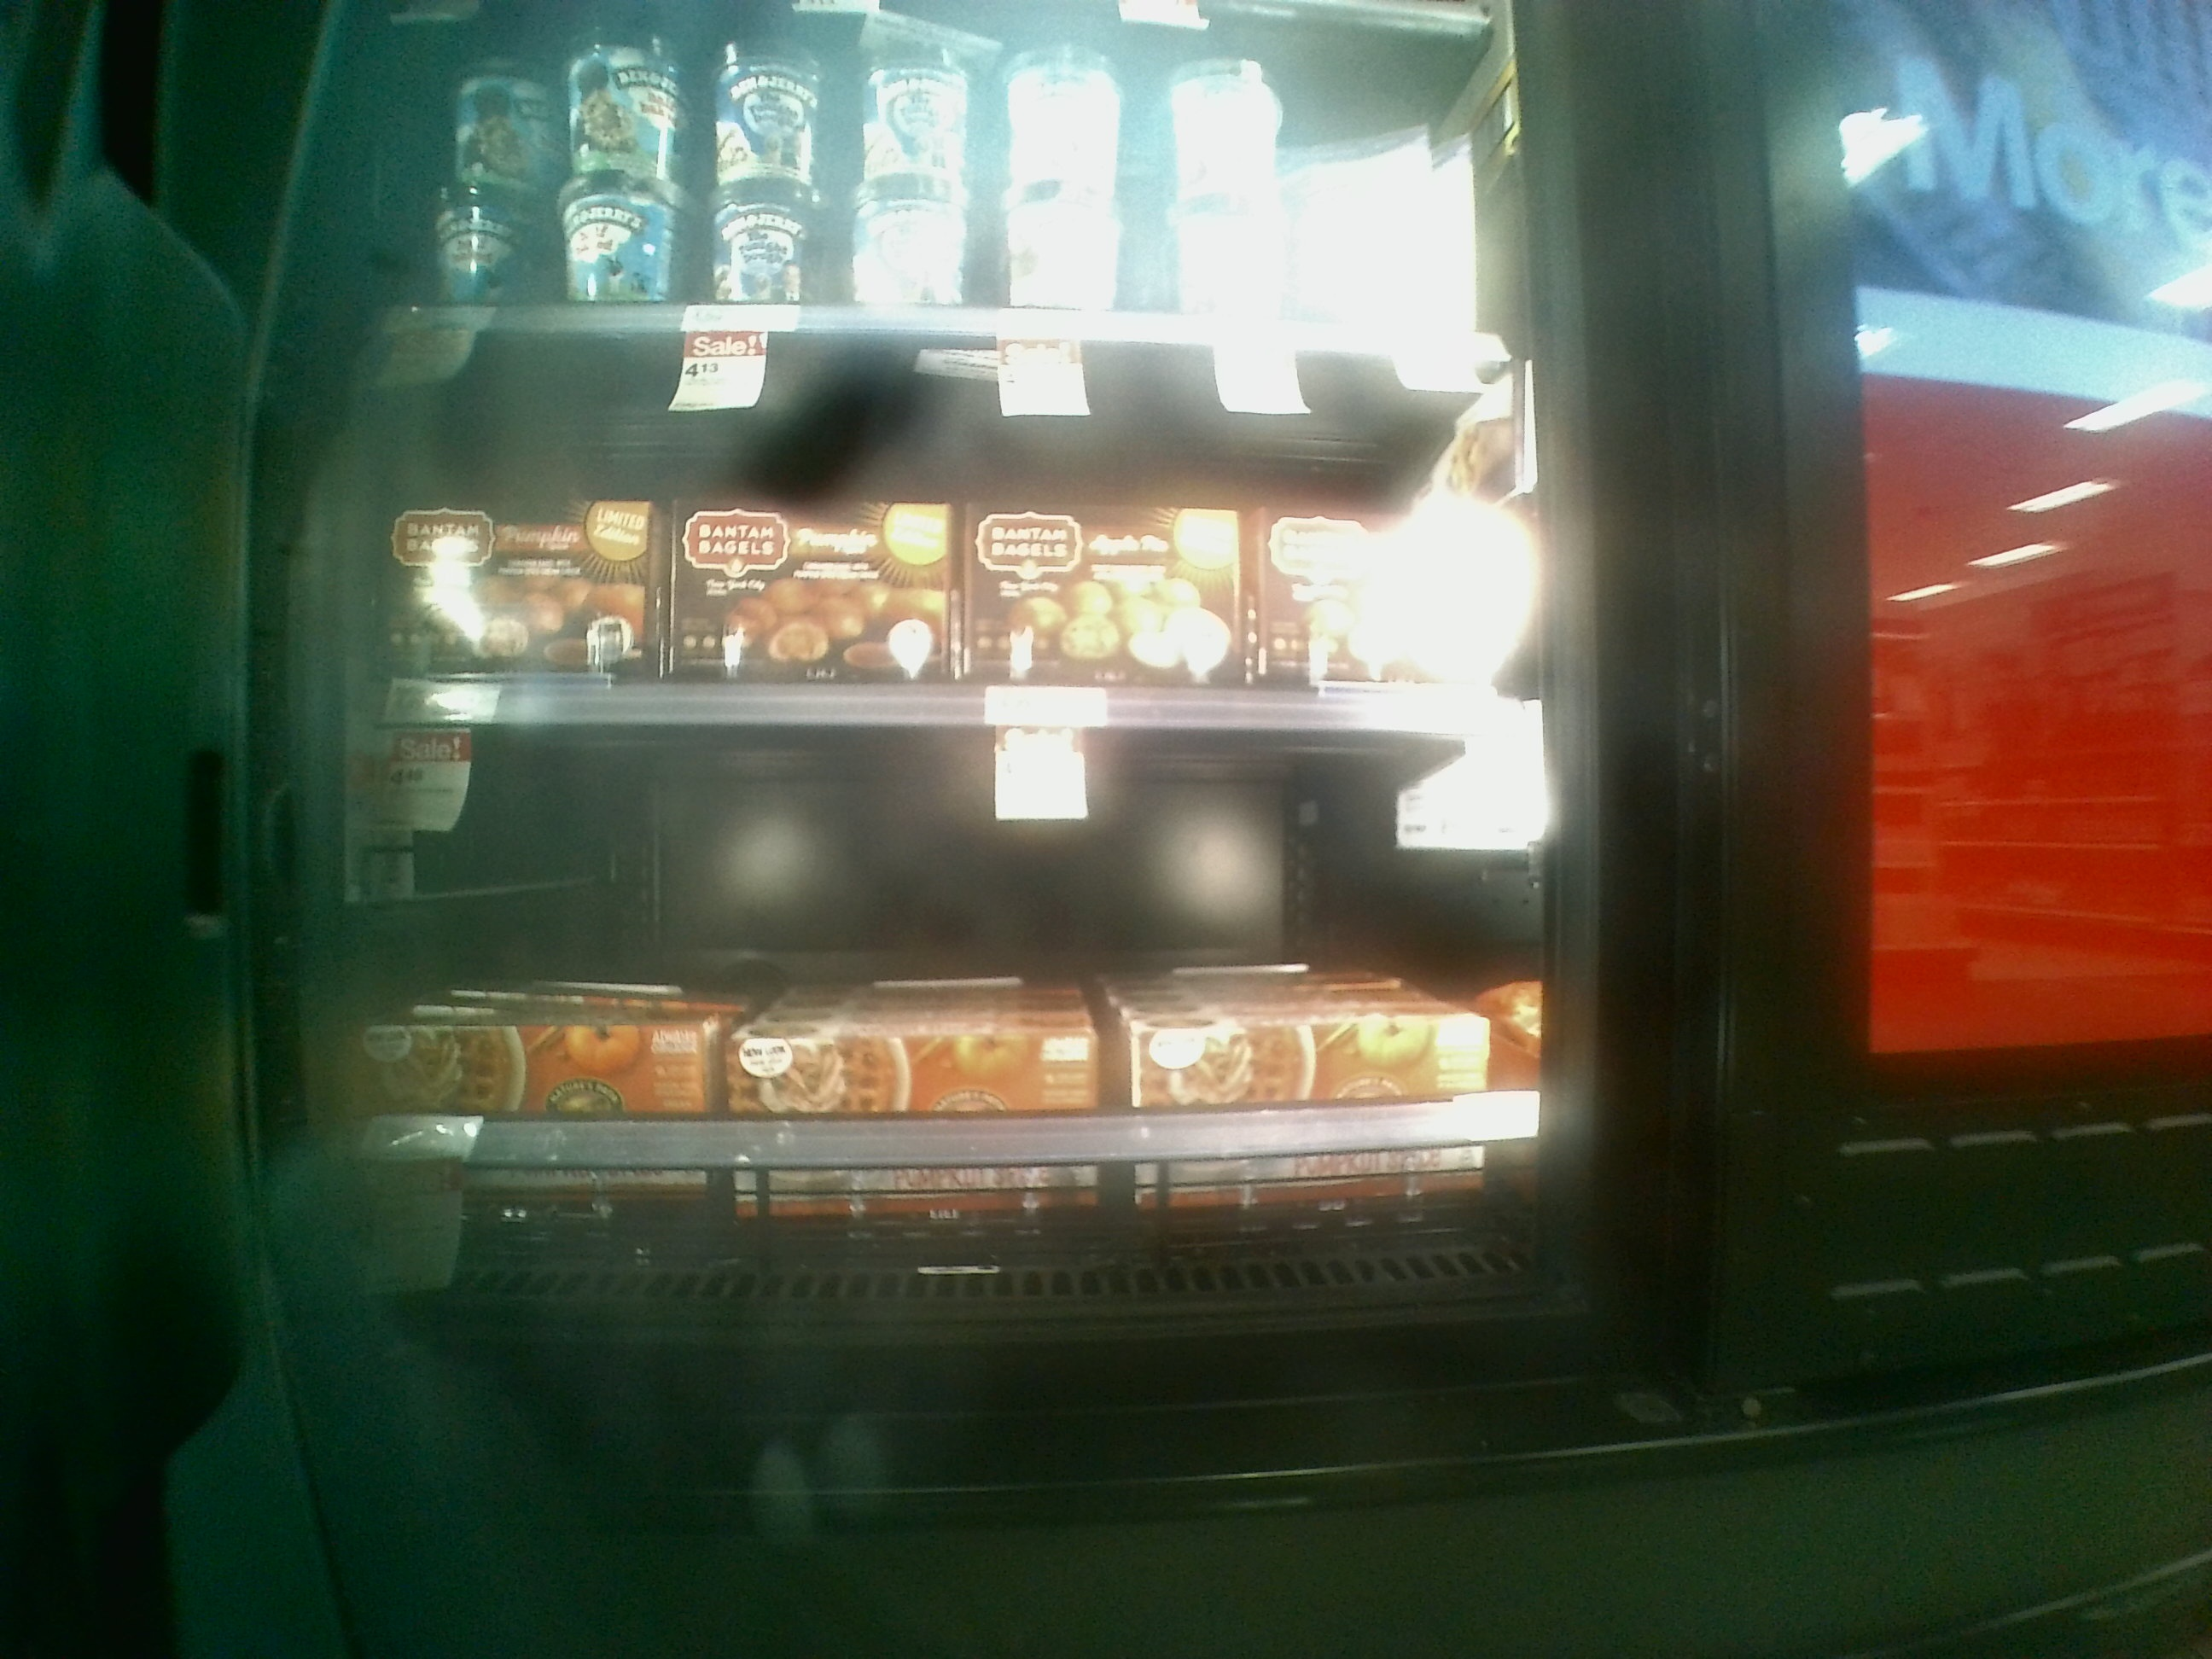shelf: (317, 708, 1602, 1330), (317, 305, 1564, 746)
